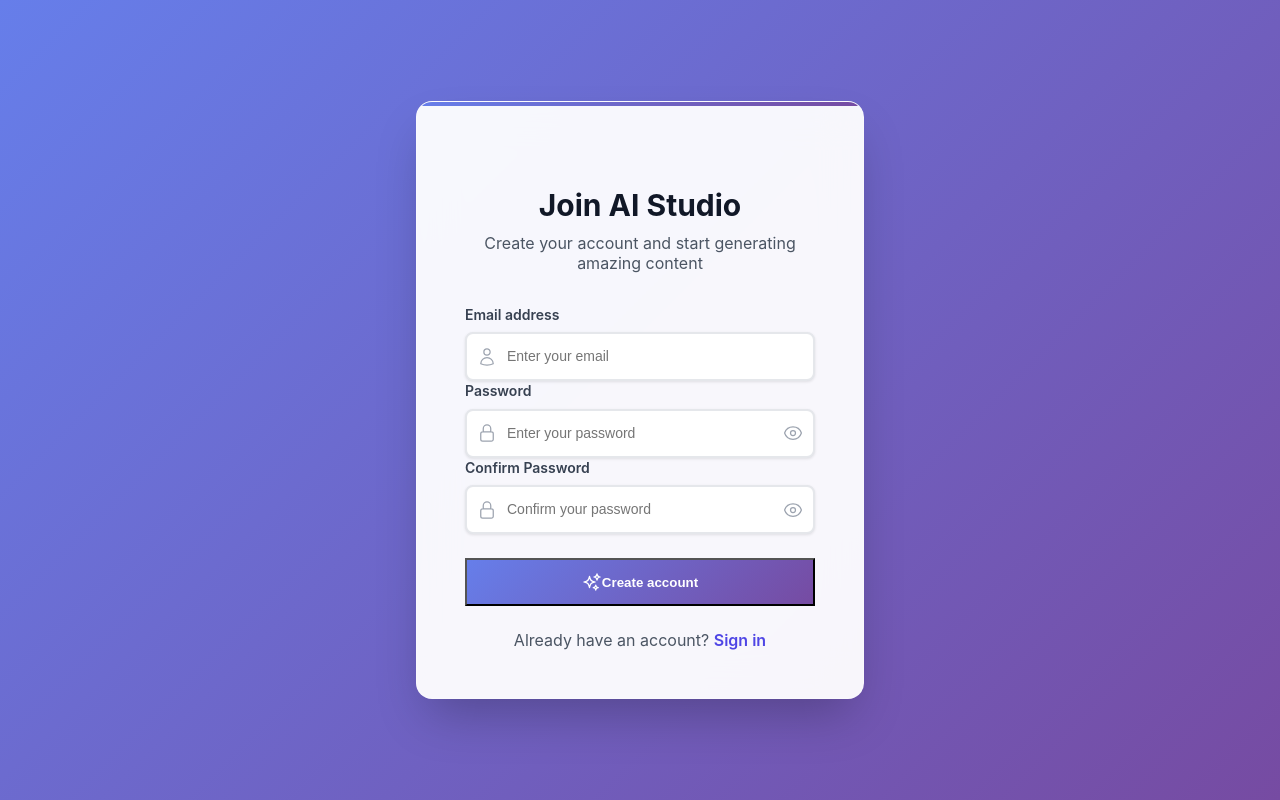
SignupForm › Password Strength Indicator › should update strength indicator based on password complexity
The image size is (1280, 800).
Test weak password
Type "abc" into the password field labelled "Password". click: (640,433)
box: [465,409,815,458]
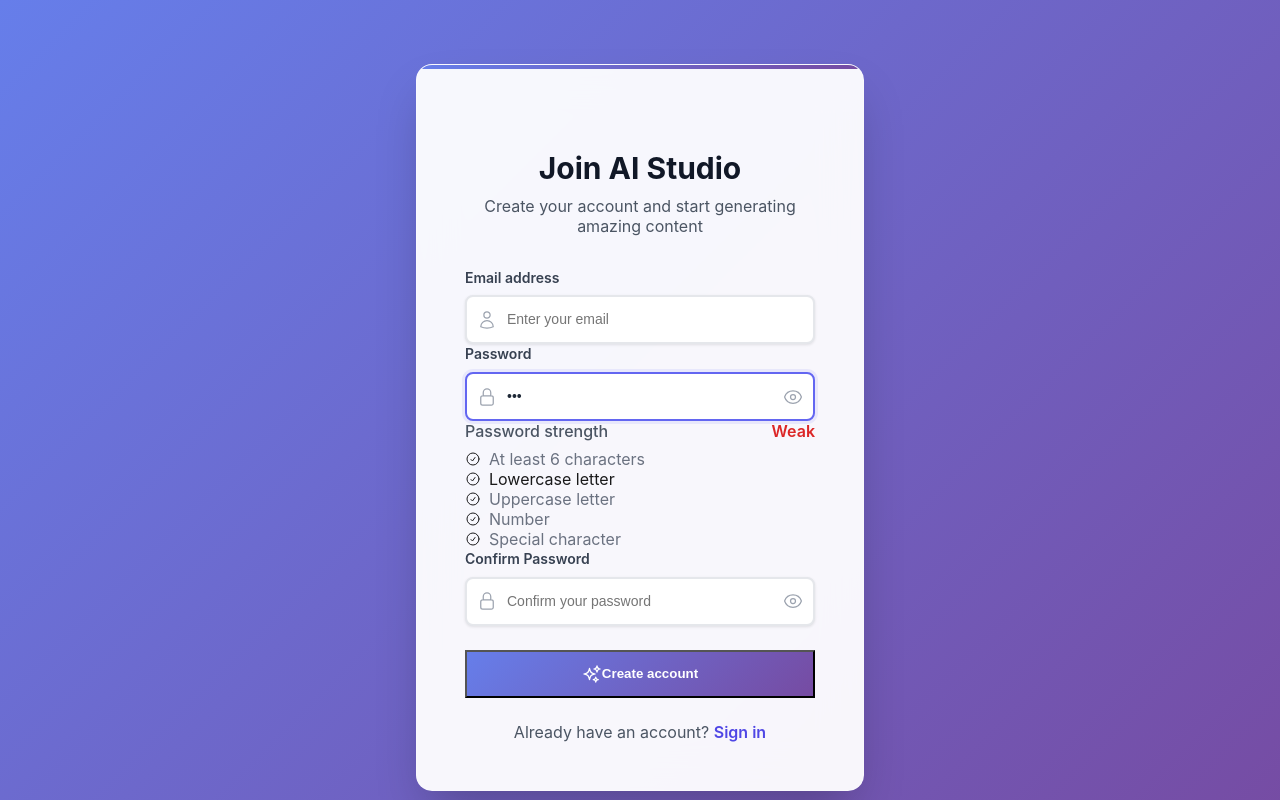
Expected: the text "Weak" is shown, [772,421,815,441]
Clear and test stronger password
Clear the password field labelled "Password". click: (640,397)
box: [465,372,815,421]
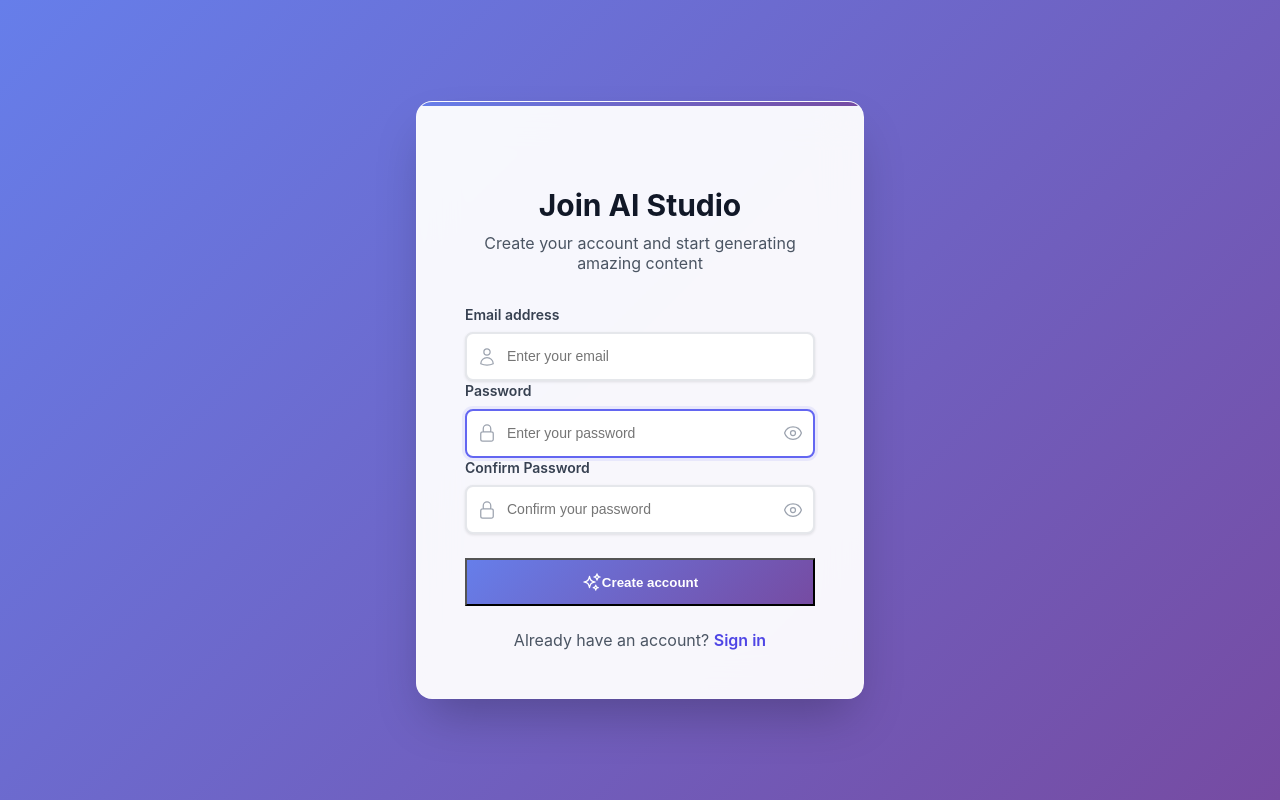
Type "StrongPass123!" into the password field labelled "Password". click: (640,433)
box: [465,409,815,458]
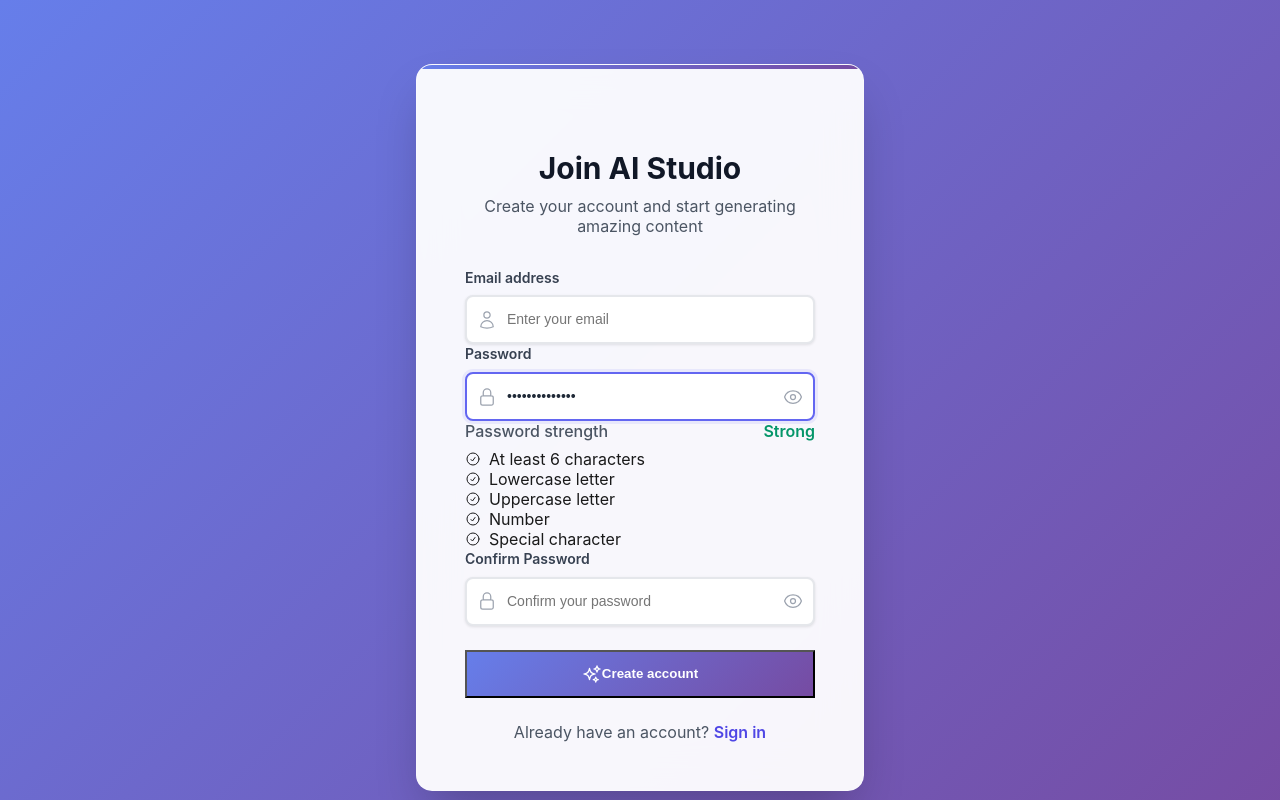
Expected: the text "Strong" is shown, [763,421,815,441]
